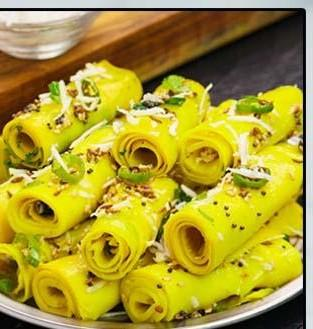khandvi: (2, 55, 302, 329)
